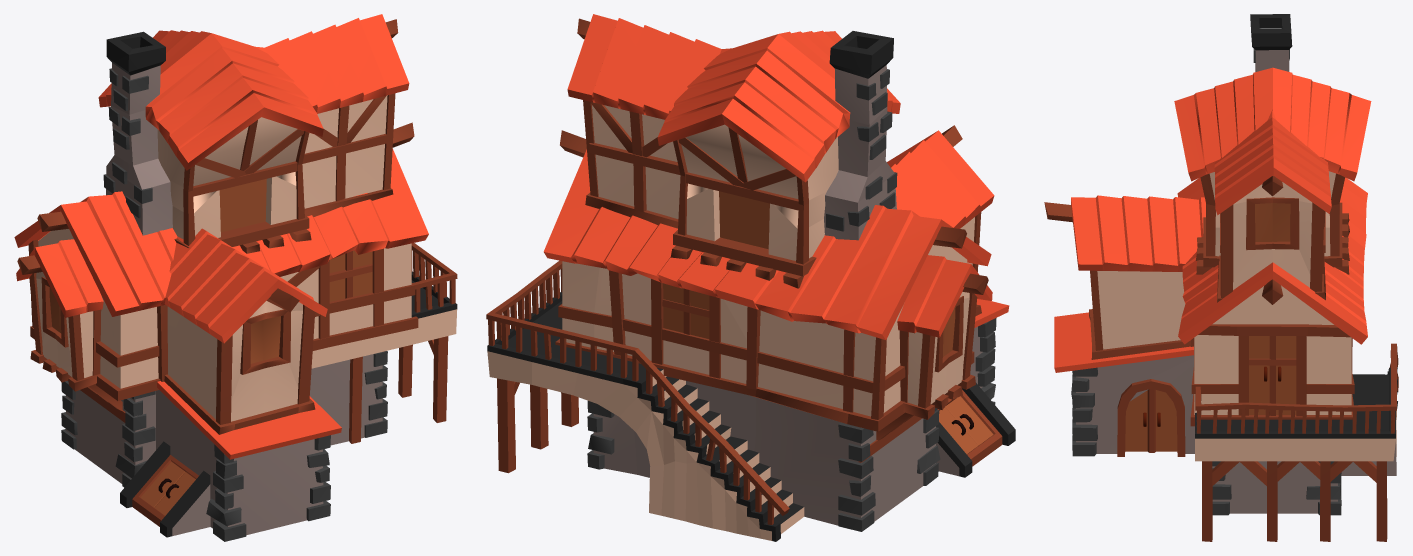
The model's file is Maison1.glb.
3 views of the same model, side by side, from view 1: azimuth 30°, elevation 25°; view 2: azimuth 150°, elevation 25°; view 3: azimuth 270°, elevation 25° (orthographic). The views are drawn at different scales.
Parts seen in each view (by area): view 1: Cube.033_Medieval_0; view 2: Cube.033_Medieval_0; view 3: Cube.033_Medieval_0.
Part boxes in pixels (x1=…): Cube.033_Medieval_0: x1=14, y1=14, x2=457, y2=541; Cube.033_Medieval_0: x1=486, y1=14, x2=1015, y2=541; Cube.033_Medieval_0: x1=1044, y1=14, x2=1398, y2=541.
Size of what is drawn, in the model's own units: 7.31 by 7.37 by 6.01.
1 material, 1 textured.
